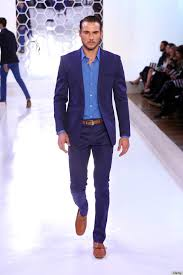F_M_suit jacket: (48, 48, 134, 147)
F_belt: (72, 114, 105, 131)
F_dress pants: (67, 126, 118, 243)
